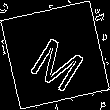M_NE: (22, 21, 88, 89)
